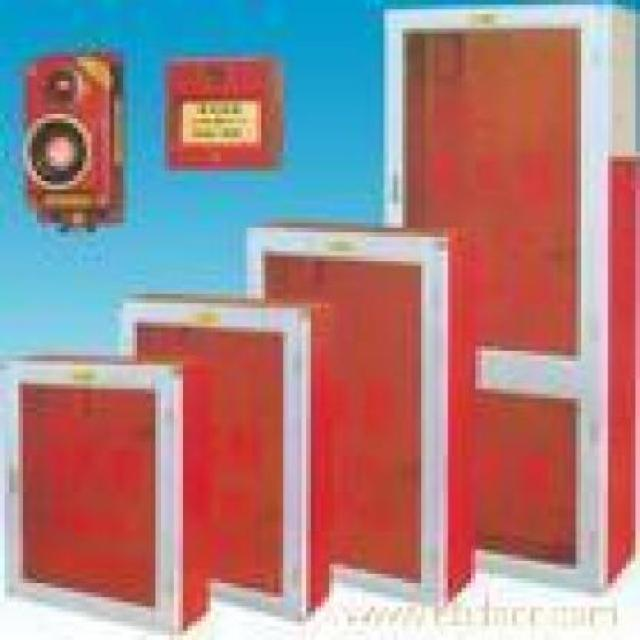firehydrant: (378, 1, 640, 602), (243, 216, 482, 616), (114, 288, 344, 627), (3, 347, 222, 640)
